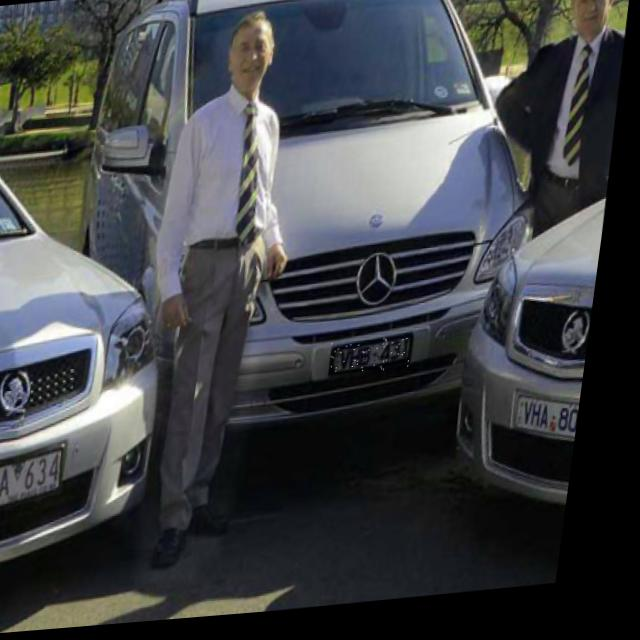license_plate: (338, 343, 423, 381)
